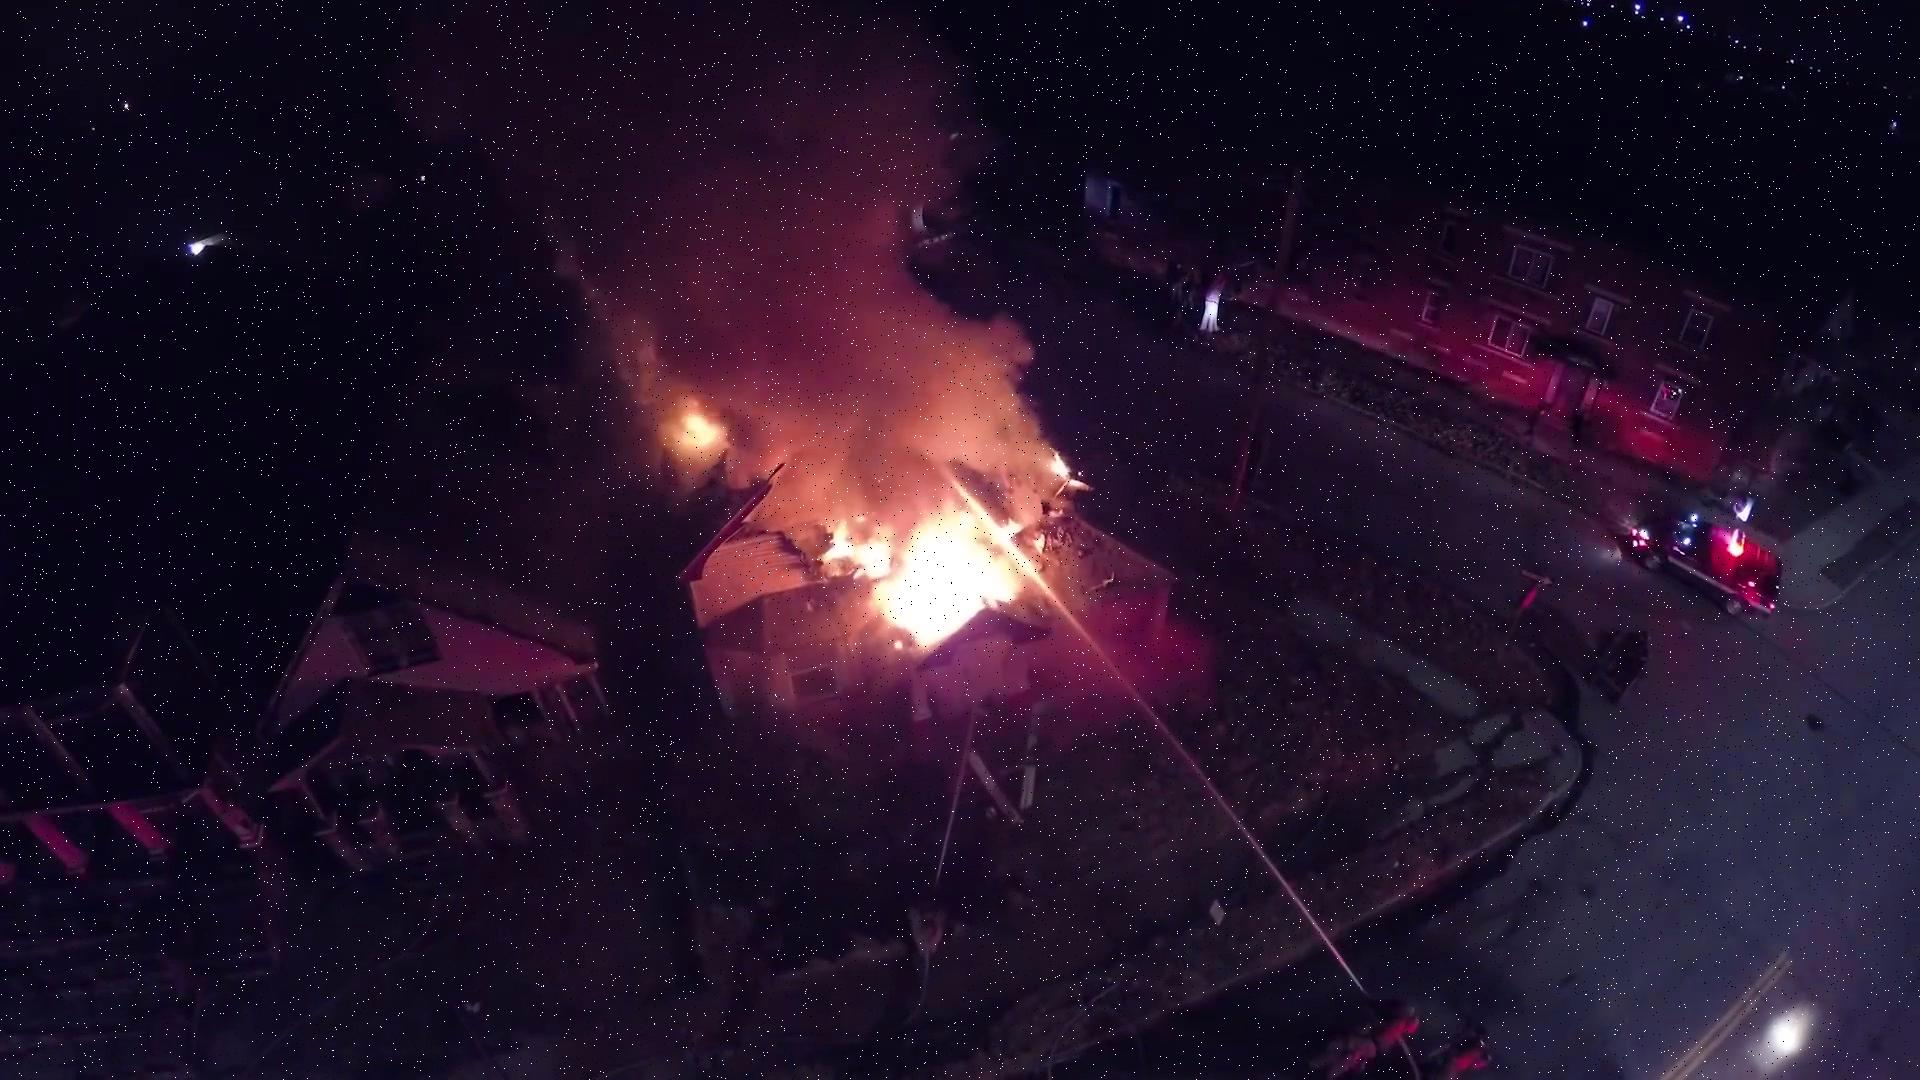fire: (816, 425, 1033, 682)
